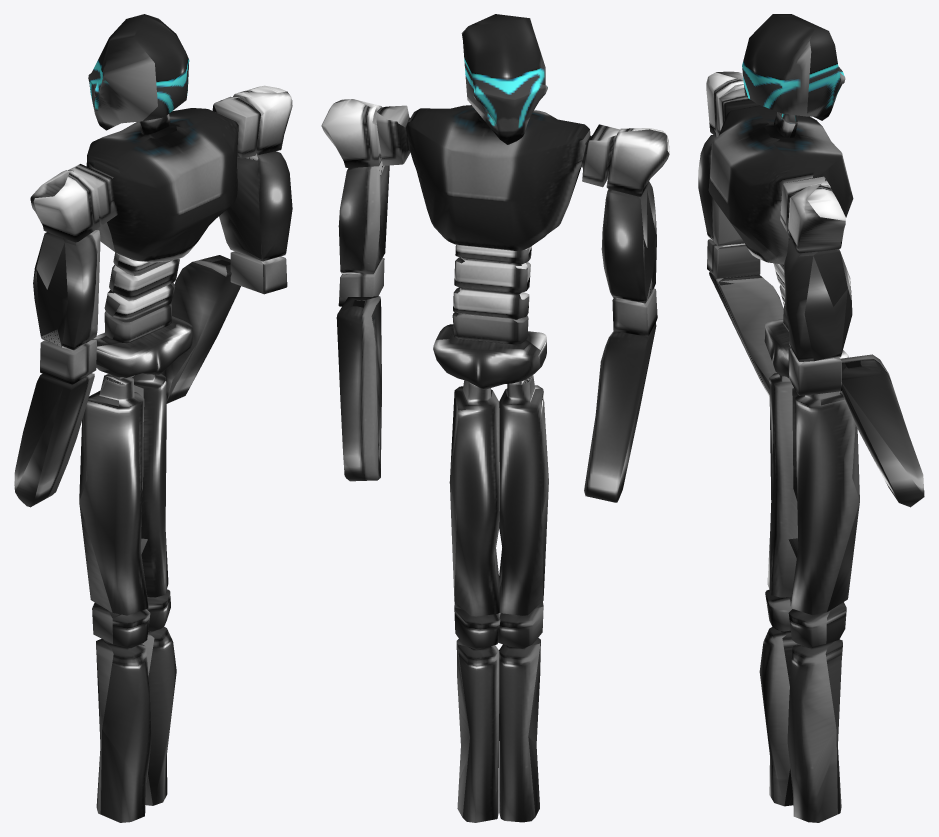
File: frame_043.obj
3 renders of one model, left to right at view 1: azimuth 30°, elevation 25°; view 2: azimuth 150°, elevation 25°; view 3: azimuth 270°, elevation 25°, orthographic.
Visible parts, largest first — view 1: Cyborg, PierzaI, PiernaD, AntebrazoD, Cabeza, BrazoD; view 2: Cyborg, PiernaD, PierzaI, AntebrazoD, Cabeza, BrazoD; view 3: Cyborg, PiernaD, AntebrazoD, PierzaI, Cabeza, BrazoD.
Boxes of the visible parts, left/top/right/bottom form: Cyborg: left=14, top=96, right=261, bottom=507; PierzaI: left=79, top=374, right=151, bottom=822; PiernaD: left=130, top=373, right=176, bottom=805; AntebrazoD: left=219, top=85, right=292, bottom=294; Cabeza: left=88, top=14, right=189, bottom=130; BrazoD: left=161, top=255, right=240, bottom=403; Cyborg: left=374, top=105, right=669, bottom=502; PiernaD: left=449, top=380, right=500, bottom=822; PierzaI: left=498, top=375, right=548, bottom=822; AntebrazoD: left=321, top=99, right=389, bottom=306; Cabeza: left=461, top=14, right=547, bottom=144; BrazoD: left=336, top=296, right=381, bottom=481; Cyborg: left=698, top=71, right=853, bottom=396; PiernaD: left=787, top=391, right=859, bottom=822; AntebrazoD: left=784, top=184, right=852, bottom=395; PierzaI: left=759, top=373, right=798, bottom=806; Cabeza: left=742, top=14, right=845, bottom=120; BrazoD: left=840, top=354, right=924, bottom=507.
Size of the model in its own units: 9.78 by 24.74 by 6.45.
Materials: 1 (1 with a texture image).
